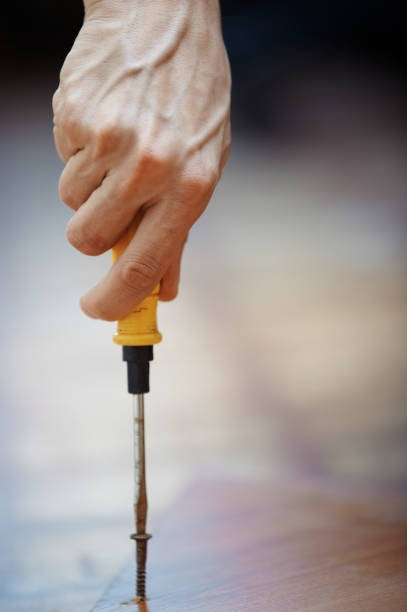screwdriver: (102, 134, 179, 536)
